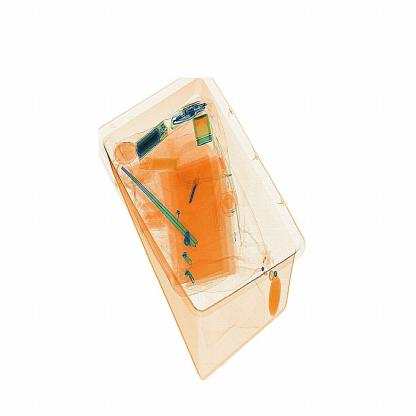wrench: (179, 166, 205, 212)
